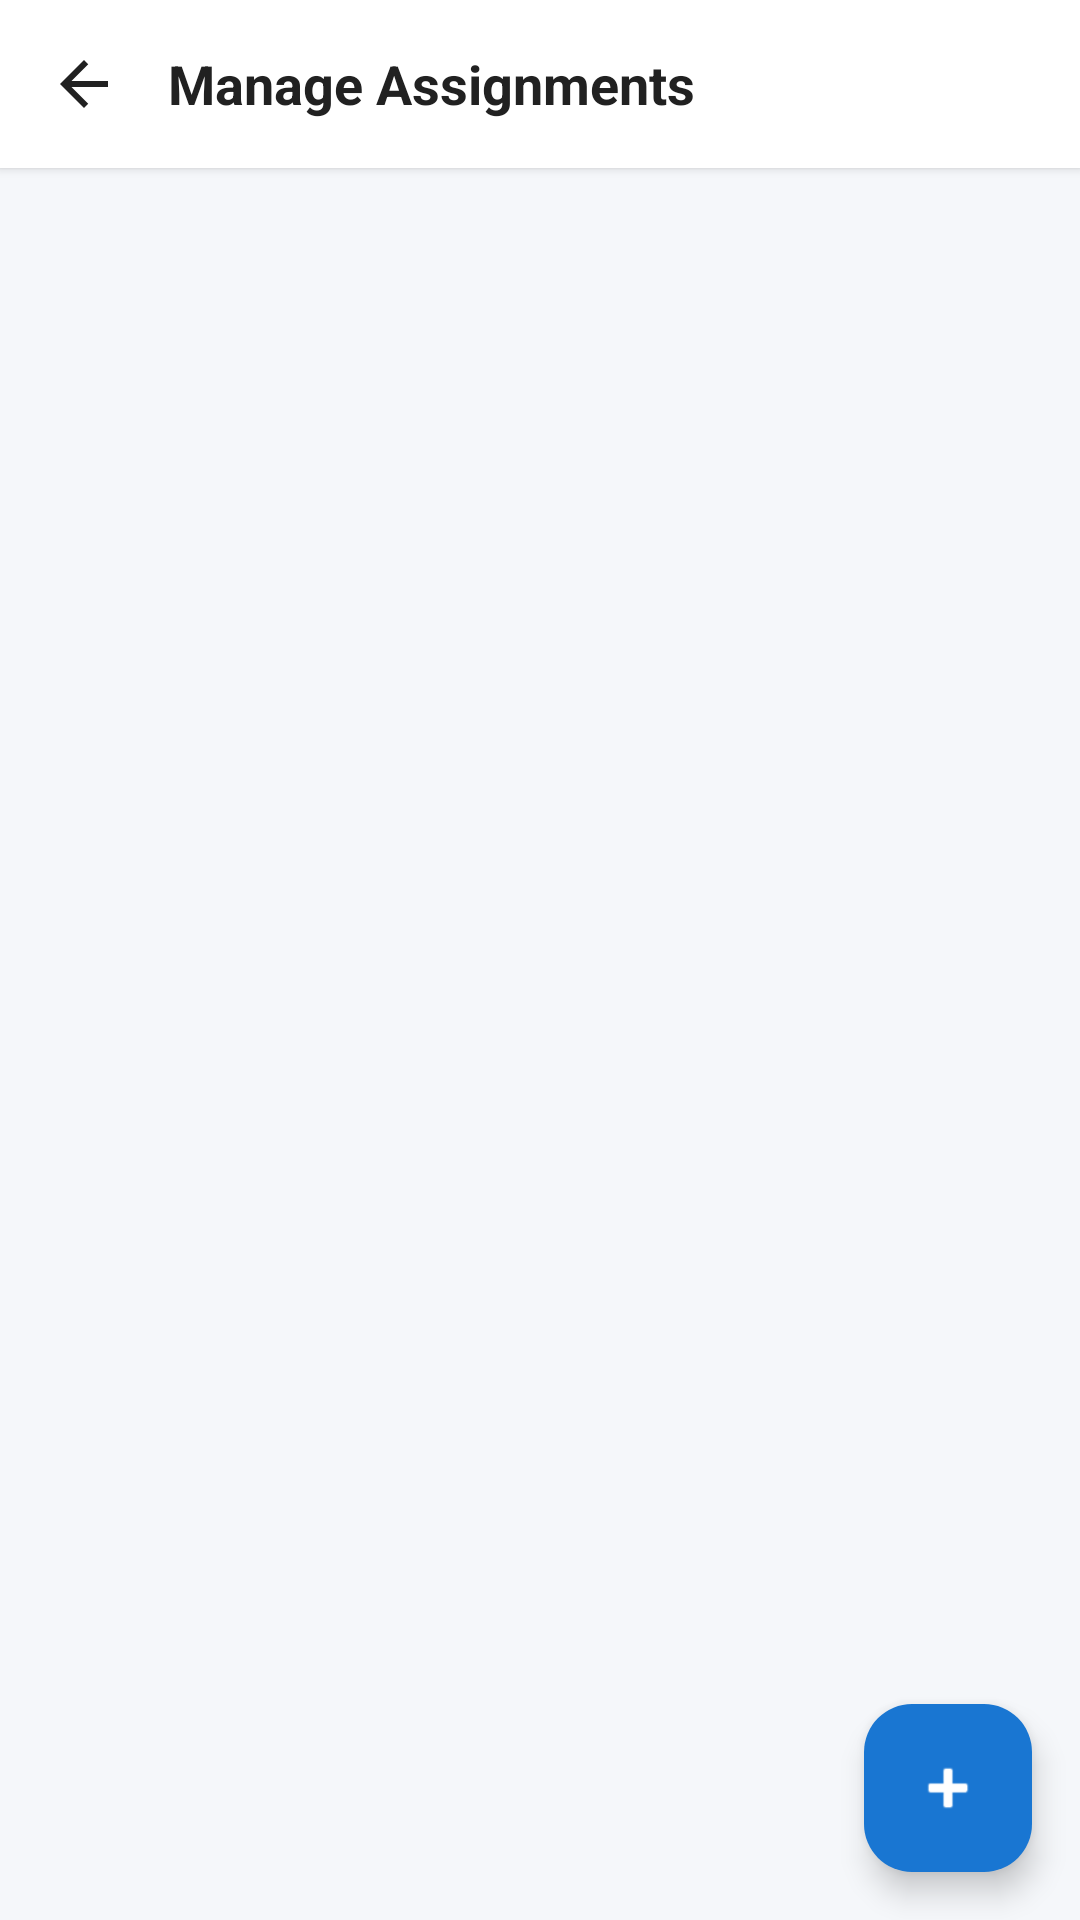

Named icons in this screenshot (1080w x 1920h) and their bounding boxes, [x1,y1,x2,y2]:
add: [864,1704,1032,1872]
back: [60,60,108,108]
